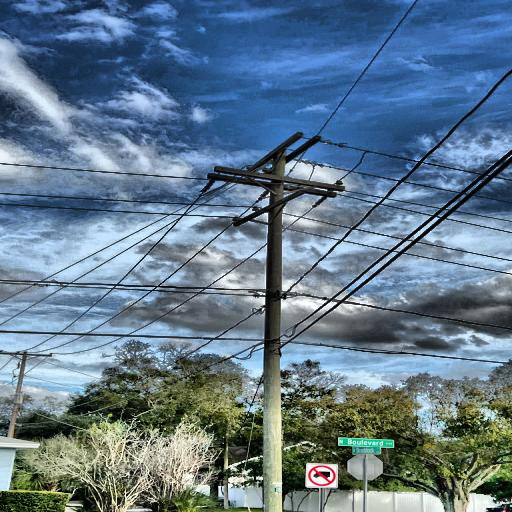pole: (255, 140, 299, 512)
